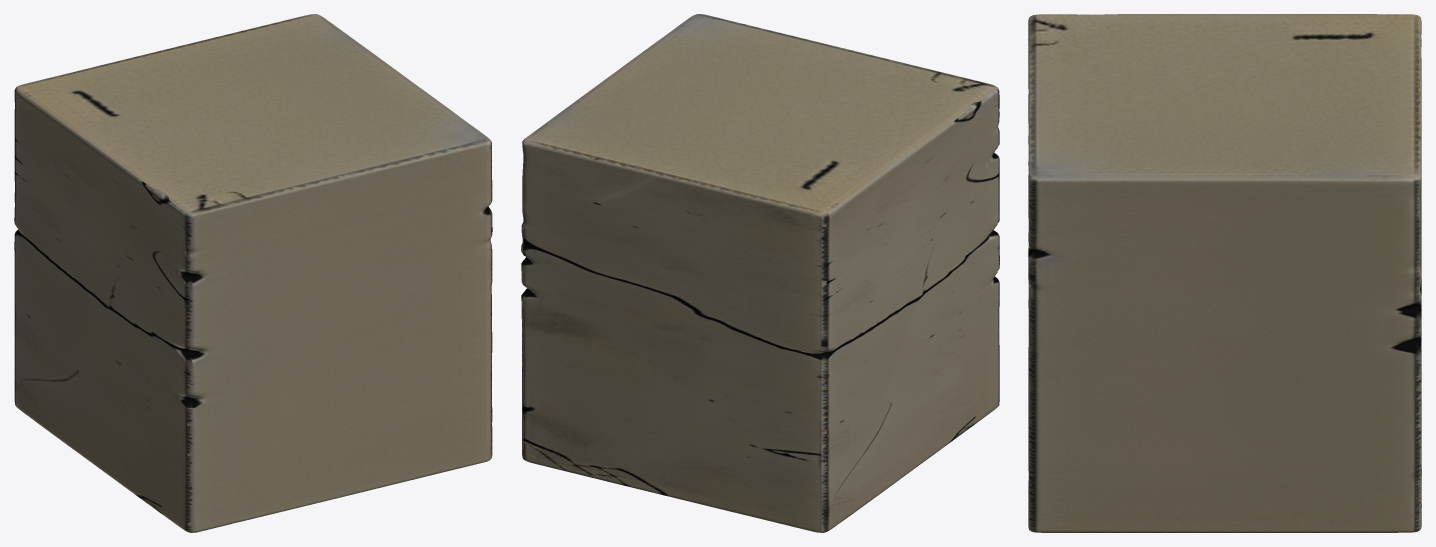
Rendered from wall-plaster-corner.glb.
3 views of the same model, side by side, from view 1: azimuth 30°, elevation 25°; view 2: azimuth 150°, elevation 25°; view 3: azimuth 270°, elevation 25° (orthographic). The views are drawn at different scales.
Visible parts, largest first — view 1: tmphalioeeg.ply; view 2: tmphalioeeg.ply; view 3: tmphalioeeg.ply.
Part boxes in pixels (box(x1,y1,x2,y2)): tmphalioeeg.ply: box(14, 14, 492, 532); tmphalioeeg.ply: box(521, 14, 999, 532); tmphalioeeg.ply: box(1028, 14, 1421, 532).
Size of the model in its own units: 1 by 1 by 1.
1 material, 1 textured.
